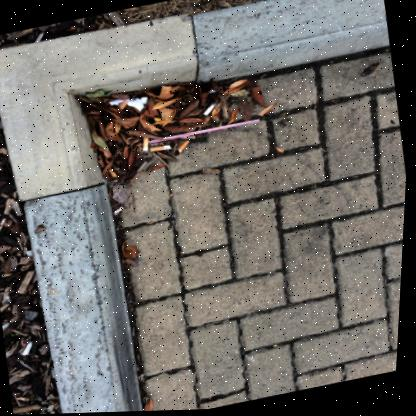Paper: (109, 97, 147, 111)
Plastic: (149, 119, 260, 143)
Waste: (177, 140, 190, 153), (203, 103, 216, 116), (150, 144, 172, 151), (24, 340, 34, 354), (143, 136, 149, 151)
